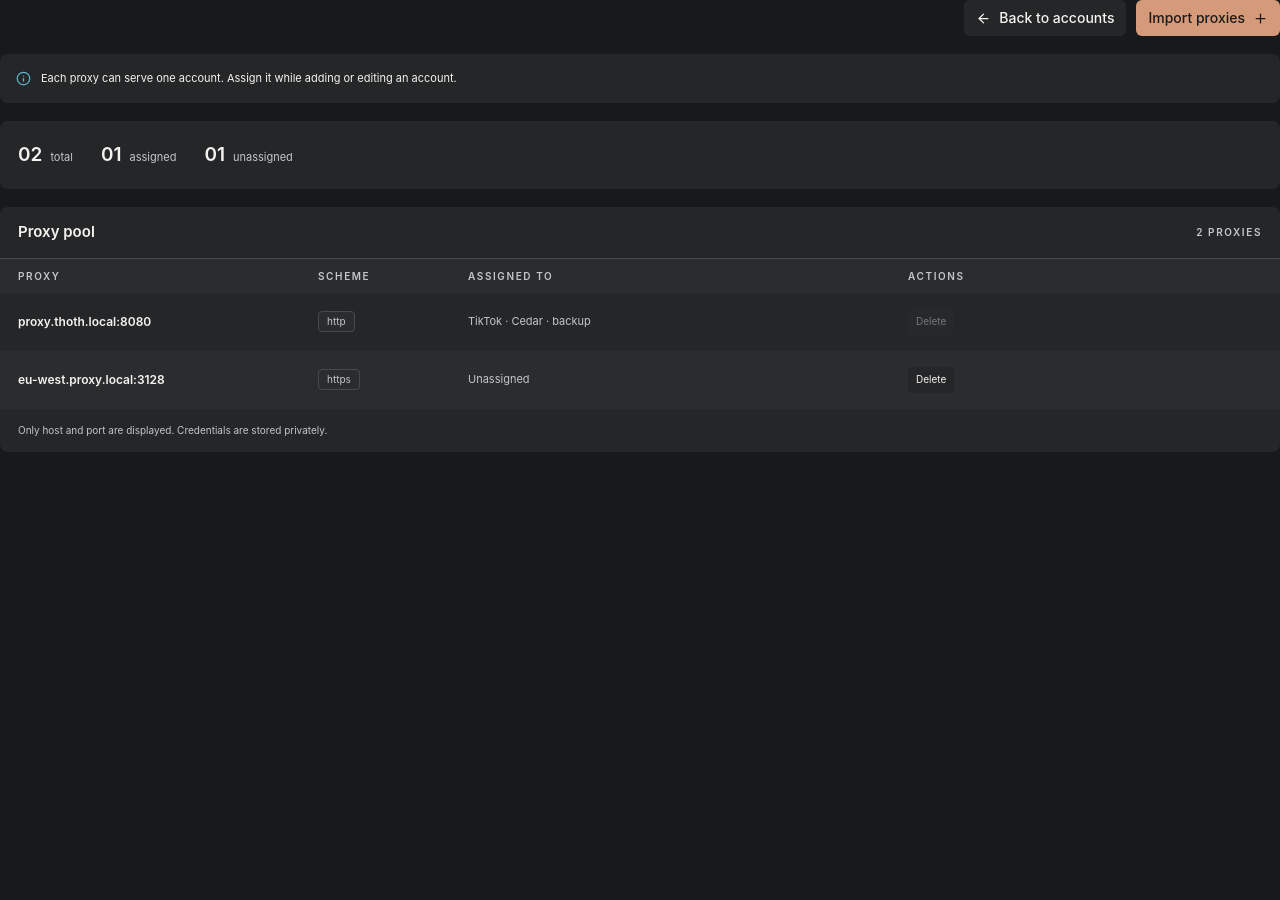
Test: importing shows the summary by line number only
Expected: the table is shown, [0,258,1279,408]
Click the button "Import proxies" at (1208,18), box [1136,0,1279,36]
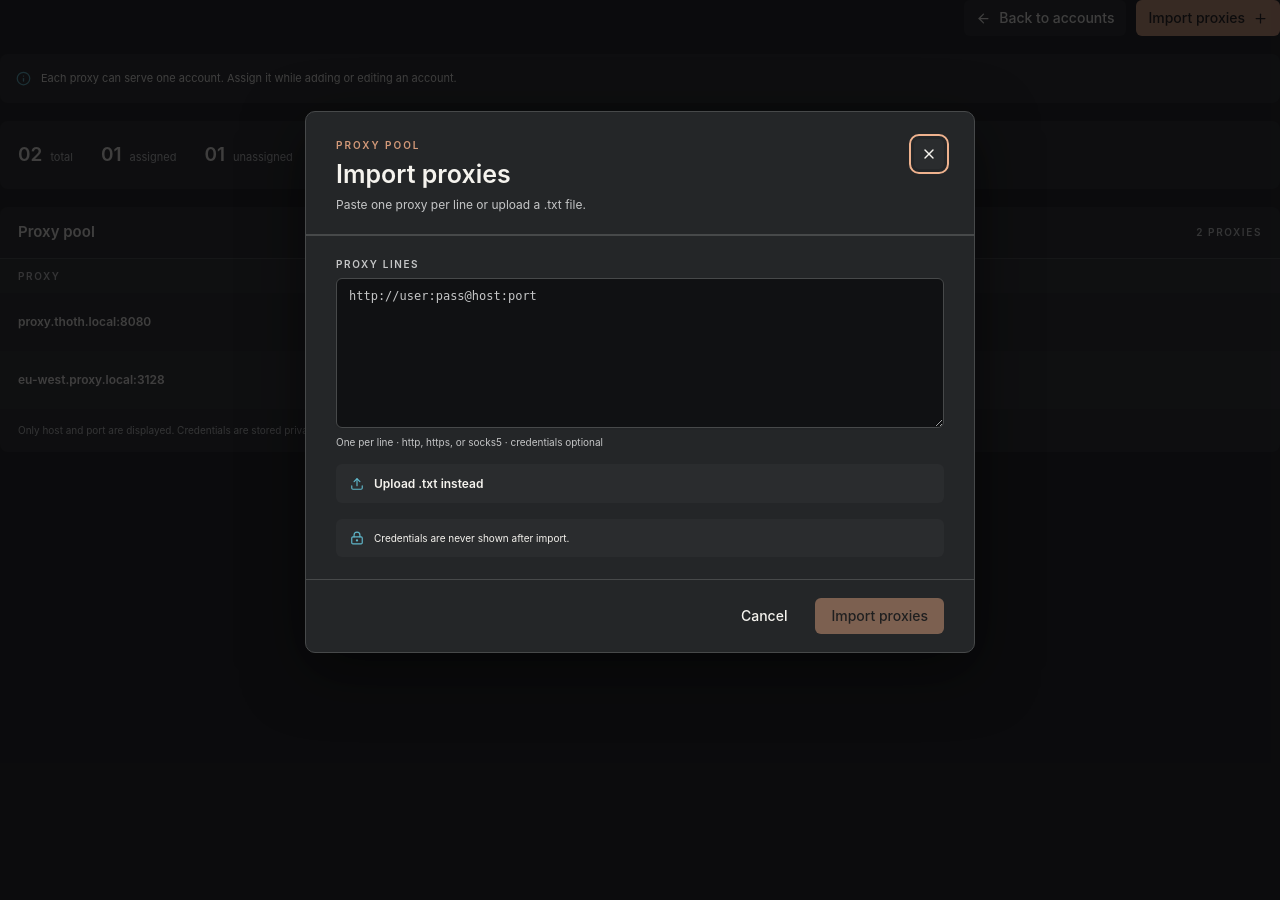
Type "http://u:secret@1.2.3.4:8080" into the text box labelled "Proxy lines" at (640,353), box [336,278,944,428]
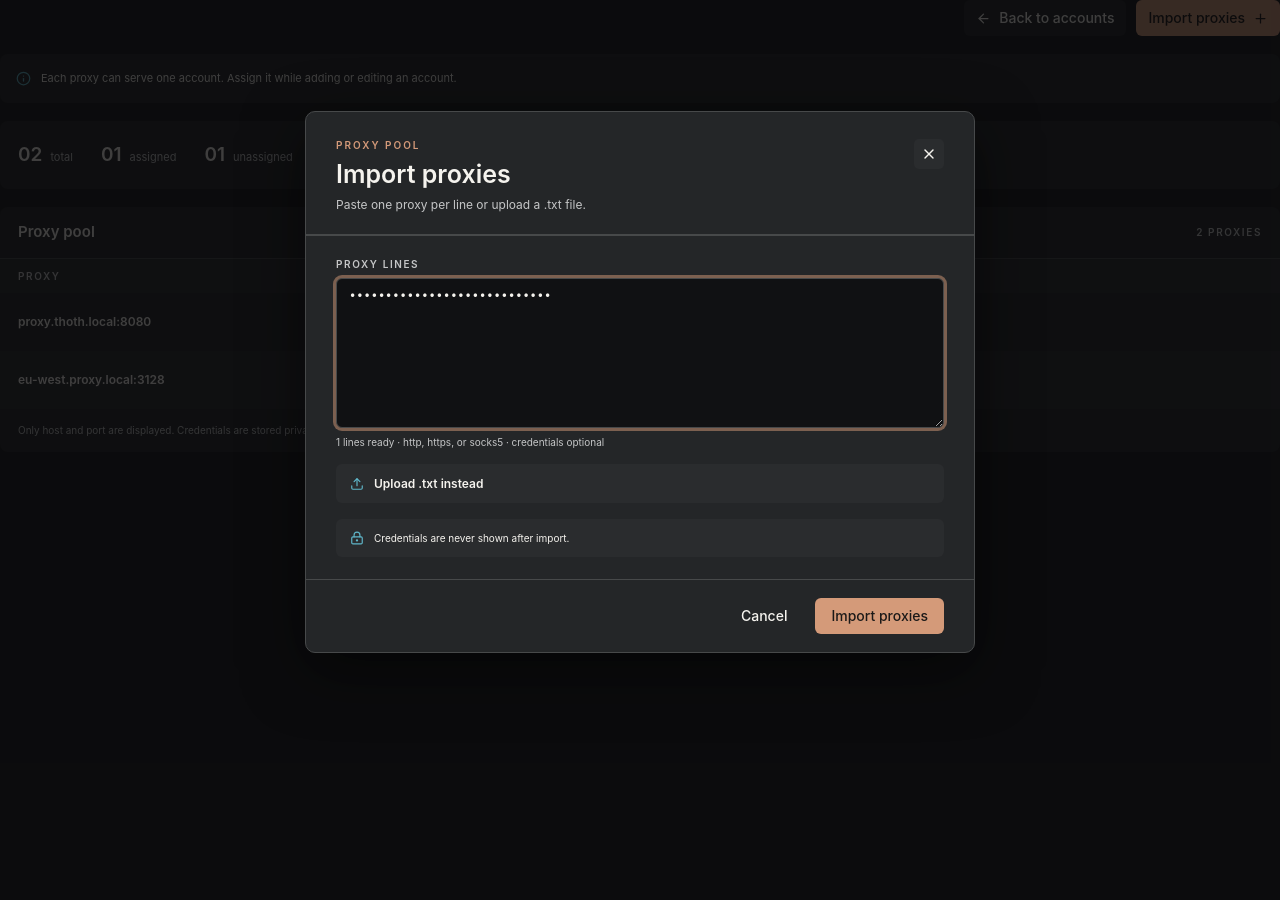
Click the button "Import proxies" at (880,616), box [815,598,944,634]
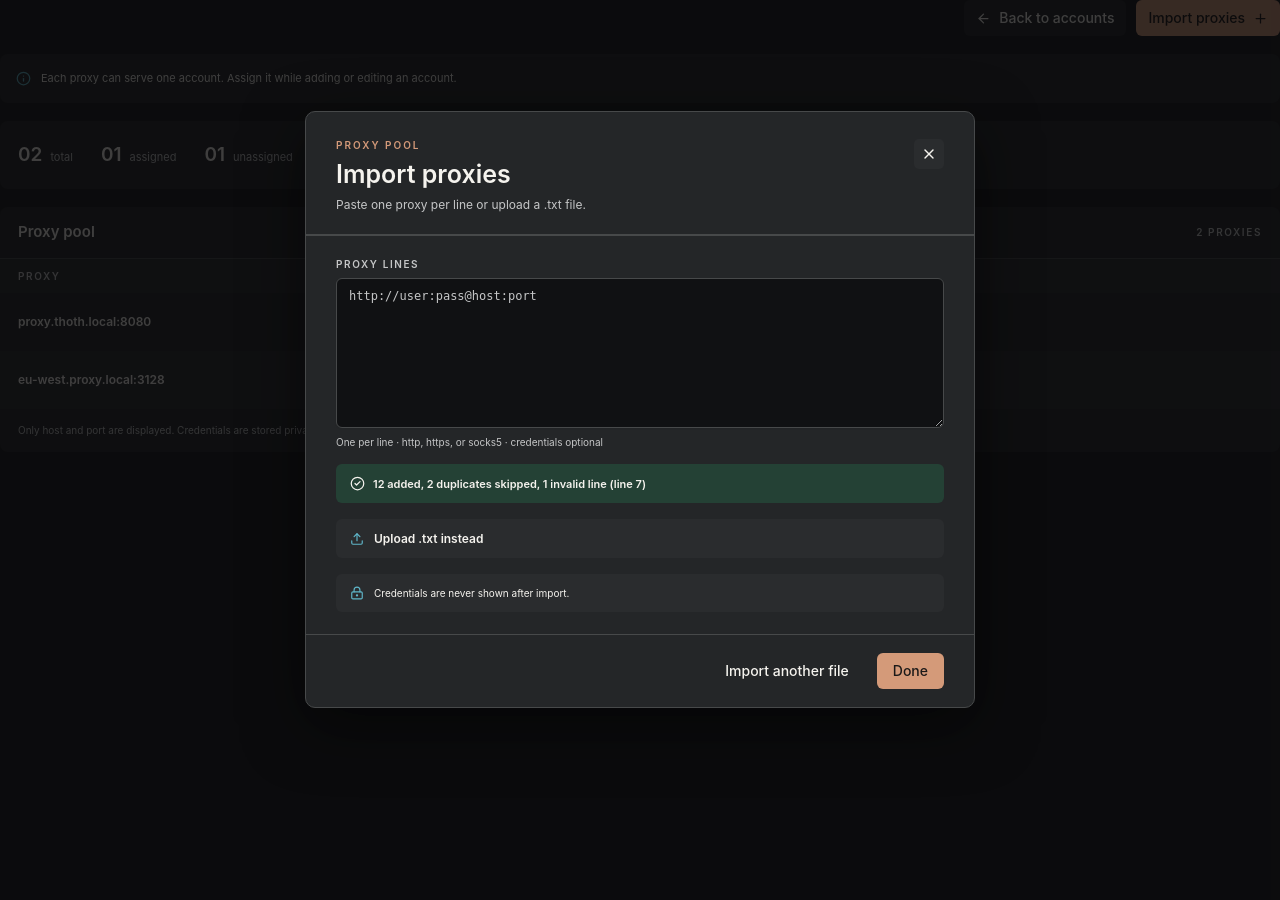
Expected: the text "12 added, 2 duplicates skipped, 1 invalid line (line 7)" is shown, [336,464,944,503]
Expected: the button "Done" is shown, [877,653,944,689]
